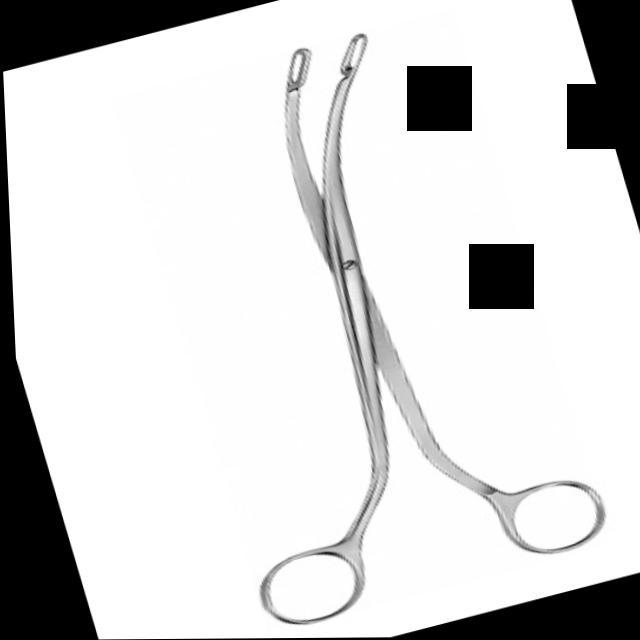Desjardin Forceps: (104, 1, 622, 636)
